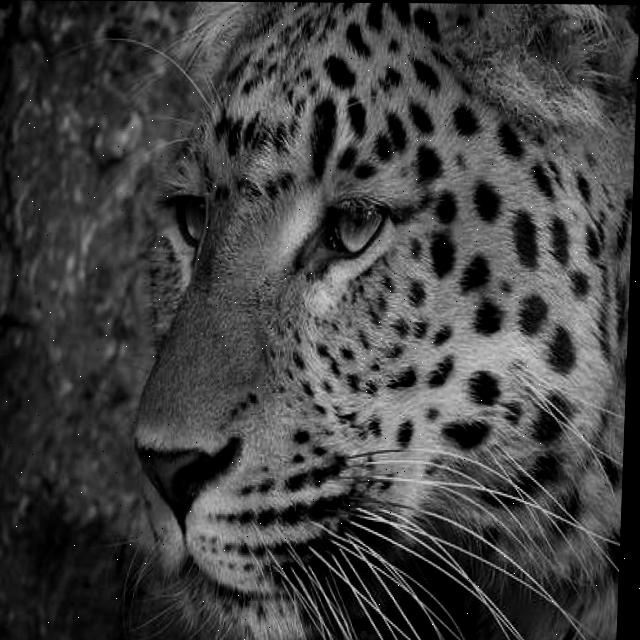Leopard: (37, 0, 638, 640)
